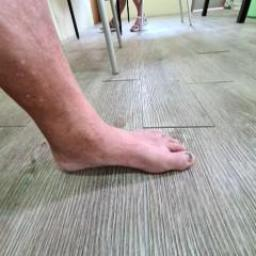Medial View -Left Foot-: (23, 100, 224, 191)
